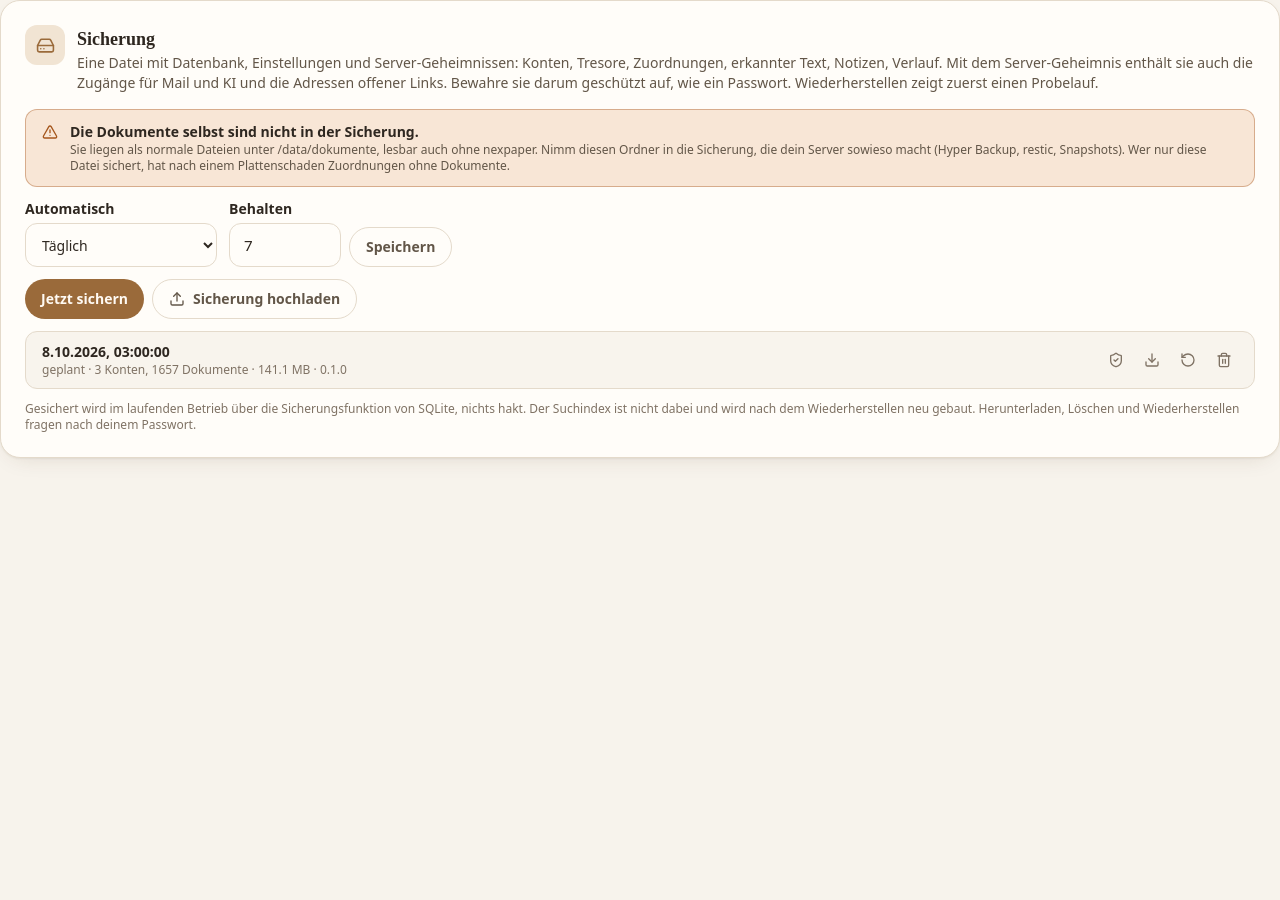
Test: the trial run before a restore › shows the trial run in words: missing and changed files, what would go, the new search
What coordinates should you click on to do the following:
click the button named "Prüfen"
I would click on:
 (1116, 360)
Its box is left=1102, top=346, right=1130, bottom=374.
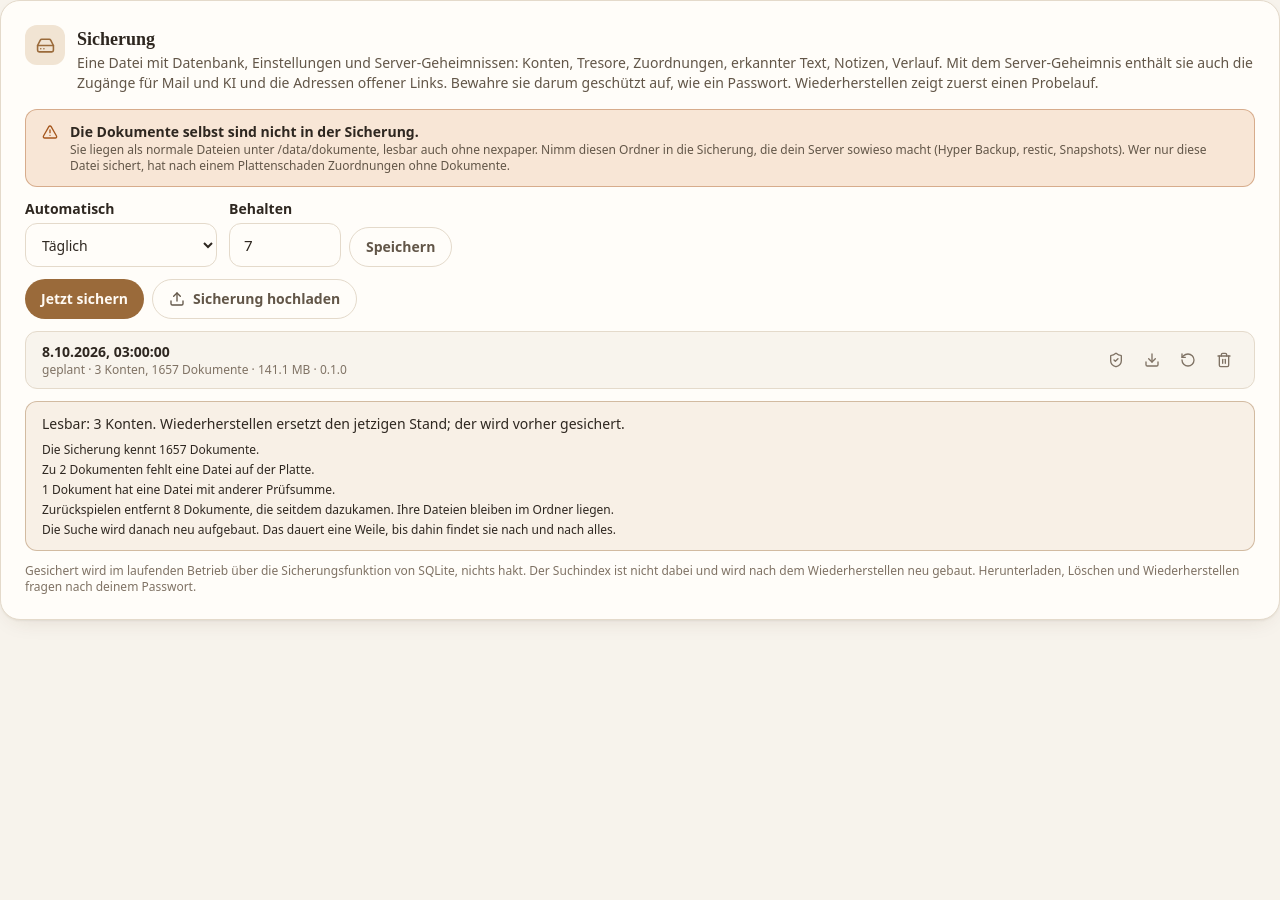
Expected: the list with test id "restore-preview" shows "Die Sicherung kennt 1657 Dokumente.", left=42, top=441, right=259, bottom=458
Expected: the list with test id "restore-preview" shows "Zu 2 Dokumenten fehlt eine Datei auf der Platte.", left=42, top=461, right=314, bottom=478
Expected: the list with test id "restore-preview" shows "1 Dokument hat eine Datei mit anderer Prüfsumme.", left=42, top=481, right=335, bottom=498
